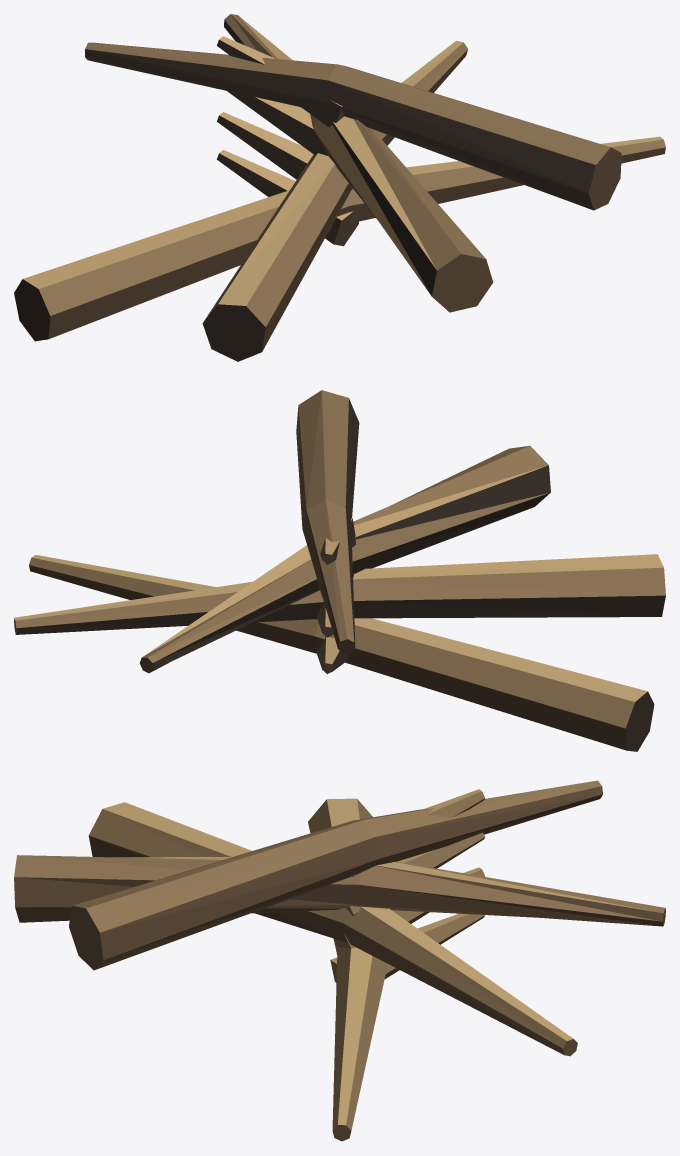
File: TW_PROP_BRANCH_PILE_B_LOD0.glb
3 views of the same model, one above another, from view 1: azimuth 30°, elevation 25°; view 2: azimuth 150°, elevation 25°; view 3: azimuth 270°, elevation 25° (orthographic). The views are drawn at different scales.
Parts seen in each view (by area): view 1: TW_PROP_BRANCH_PILE_B_LOD0; view 2: TW_PROP_BRANCH_PILE_B_LOD0; view 3: TW_PROP_BRANCH_PILE_B_LOD0.
Part boxes in pixels (bbox=[...]): TW_PROP_BRANCH_PILE_B_LOD0: bbox=[14, 14, 665, 361]; TW_PROP_BRANCH_PILE_B_LOD0: bbox=[14, 390, 665, 751]; TW_PROP_BRANCH_PILE_B_LOD0: bbox=[14, 780, 665, 1141].
Size of the model in its own units: 1.4 by 0.4075 by 1.21.
1 material, 1 textured.
